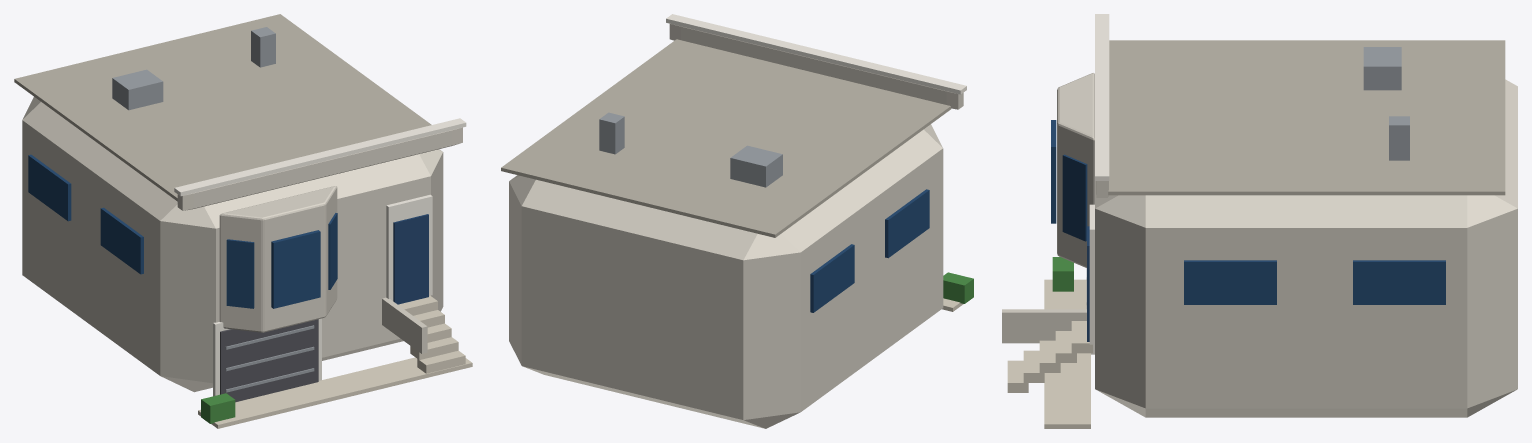
The model's file is sunset_w9_plain_bay.glb.
3 views of the same model, side by side, from view 1: azimuth 30°, elevation 25°; view 2: azimuth 150°, elevation 25°; view 3: azimuth 270°, elevation 25° (orthographic). The views are drawn at different scales.
Visible parts, largest first — view 1: walls, roofslab, bay, gdoor, patio, pp1, bw, pcap, door, bwa, dfr, sb (+10 smaller); view 2: walls, roofslab, pp1, pcap, sb, sb.002, hvac, pipe, hedge; view 3: walls, roofslab, bay, sb.001, sb.003, patio, pcap, srail, bwa.001, hvac, pipe, dfr (+7 smaller).
Boxes of the visible parts, x1=… form: walls: x1=22, y1=97, x2=443, y2=392; roofslab: x1=14, y1=14, x2=431, y2=201; bay: x1=219, y1=186, x2=337, y2=332; gdoor: x1=220, y1=319, x2=318, y2=402; patio: x1=198, y1=357, x2=472, y2=428; pp1: x1=177, y1=127, x2=462, y2=210; bw: x1=271, y1=230, x2=320, y2=308; pcap: x1=174, y1=118, x2=466, y2=196; door: x1=393, y1=214, x2=428, y2=304; bwa: x1=226, y1=239, x2=254, y2=308; dfr: x1=386, y1=194, x2=432, y2=300; sb: x1=100, y1=207, x2=143, y2=274; walls: x1=509, y1=124, x2=943, y2=428; roofslab: x1=501, y1=39, x2=951, y2=237; pp1: x1=669, y1=23, x2=963, y2=109; pcap: x1=666, y1=14, x2=966, y2=94; sb: x1=885, y1=189, x2=929, y2=258; sb.002: x1=810, y1=244, x2=854, y2=312; hvac: x1=730, y1=145, x2=782, y2=187; pipe: x1=599, y1=112, x2=624, y2=154; hedge: x1=943, y1=272, x2=973, y2=303; walls: x1=1095, y1=79, x2=1517, y2=417; roofslab: x1=1108, y1=40, x2=1505, y2=195; bay: x1=1057, y1=73, x2=1094, y2=267; sb.001: x1=1184, y1=260, x2=1276, y2=304; sb.003: x1=1353, y1=260, x2=1445, y2=304; patio: x1=1044, y1=279, x2=1090, y2=428; pcap: x1=1095, y1=14, x2=1109, y2=180; srail: x1=1002, y1=309, x2=1086, y2=343; bwa.001: x1=1062, y1=154, x2=1087, y2=241; hvac: x1=1363, y1=47, x2=1401, y2=90; pipe: x1=1389, y1=116, x2=1409, y2=160; dfr: x1=1089, y1=204, x2=1094, y2=344.
Size of the model in its own units: 9.2 by 7.2 by 12.2.
